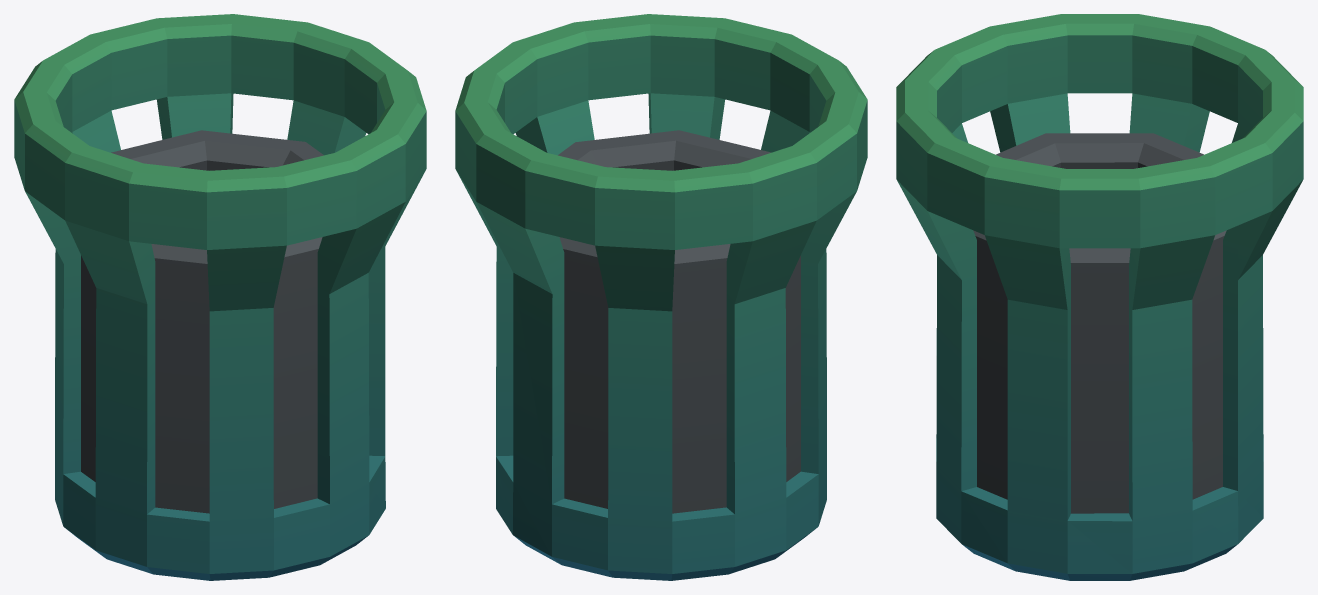
The model's file is ParkLitterBin.obj.
The picture shows the model from 3 angles, left to right: view 1: azimuth 30°, elevation 25°; view 2: azimuth 150°, elevation 25°; view 3: azimuth 270°, elevation 25°; orthographic projection.
Parts seen in each view (by area): view 1: trashcan; view 2: trashcan; view 3: trashcan.
Boxes of the visible parts, <box> form: trashcan: <box>14,14,426,580</box>; trashcan: <box>455,14,867,580</box>; trashcan: <box>896,14,1303,580</box>.
Bounding box in the file's own units: 0.8 × 0.9143 × 0.8.
1 material, 1 textured.
